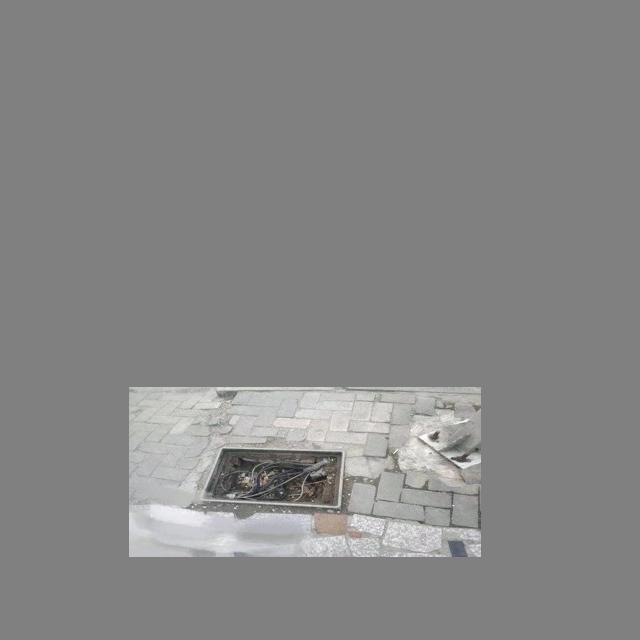lose: (196, 442, 356, 516)
